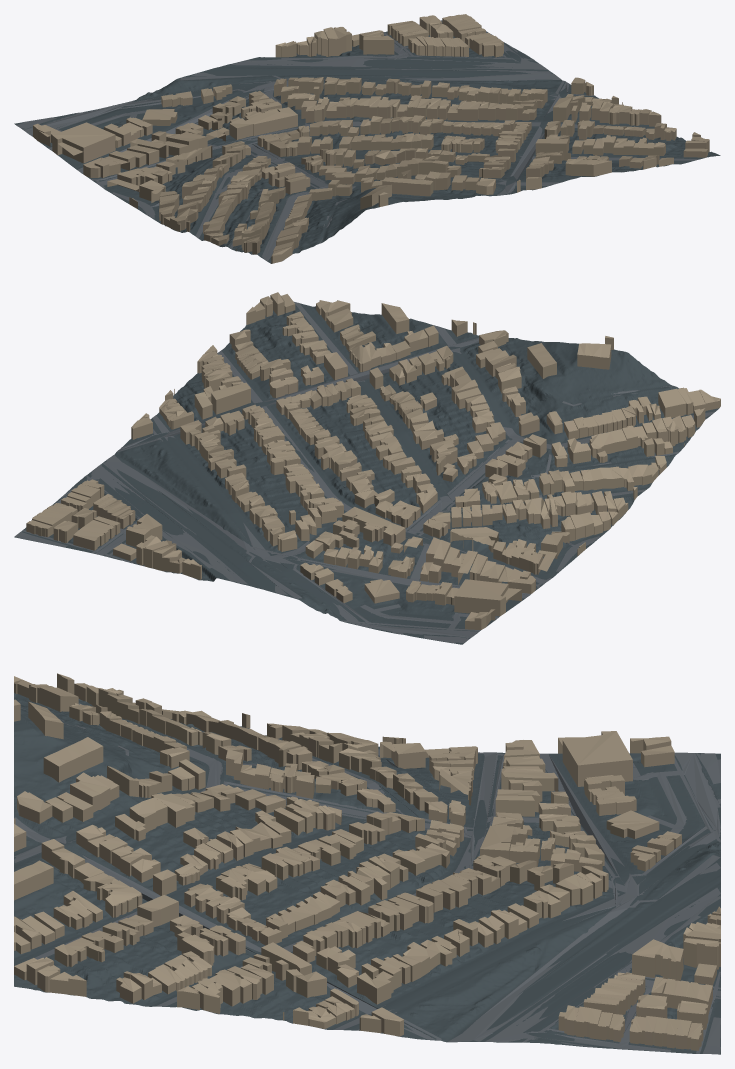
The model's file is epsg26910-1432-10876.lod0.glb.
3 views of the same model, one above another, from view 1: azimuth 30°, elevation 25°; view 2: azimuth 150°, elevation 25°; view 3: azimuth 270°, elevation 25° (orthographic). The views are drawn at different scales.
Parts seen in each view (by area): view 1: epsg26910-1432-10876-lod0; view 2: epsg26910-1432-10876-lod0; view 3: epsg26910-1432-10876-lod0.
Part boxes in pixels (<box>): epsg26910-1432-10876-lod0: <box>14,14,720,263</box>; epsg26910-1432-10876-lod0: <box>14,292,720,644</box>; epsg26910-1432-10876-lod0: <box>14,673,720,1054</box>.
Bounding box in the file's own units: 384 × 80.03 × 384.
